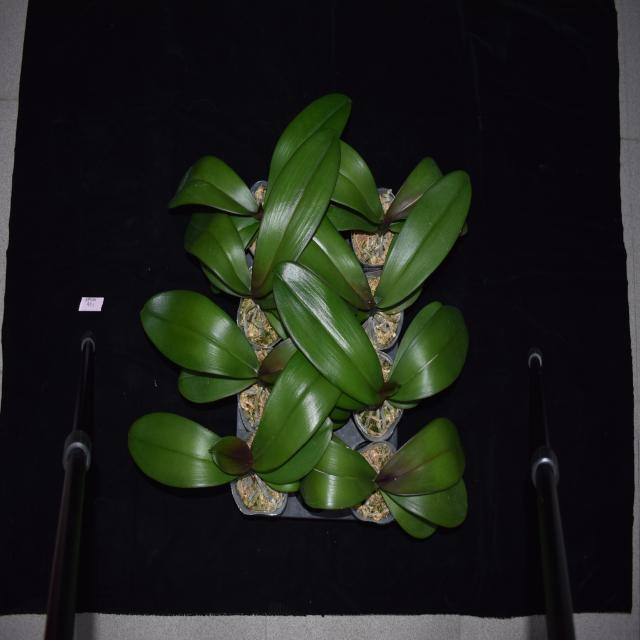leaf: (271, 259, 386, 401), (248, 130, 342, 294), (375, 164, 479, 311), (252, 350, 344, 471), (136, 288, 258, 377), (256, 94, 354, 200), (125, 407, 232, 488), (292, 208, 374, 308), (390, 306, 468, 410), (373, 409, 468, 493), (173, 213, 252, 296), (168, 150, 264, 212), (303, 440, 380, 516), (324, 126, 383, 224), (258, 414, 336, 486), (377, 476, 468, 526), (385, 158, 448, 222), (172, 362, 261, 405), (212, 429, 254, 481), (381, 494, 434, 535), (328, 200, 378, 238), (383, 376, 400, 398), (258, 307, 260, 311)
